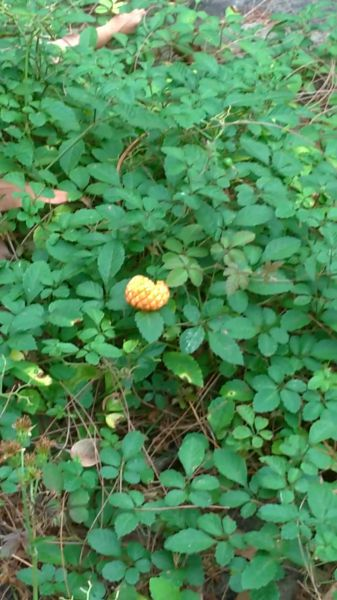eggs: (120, 274, 172, 315)
